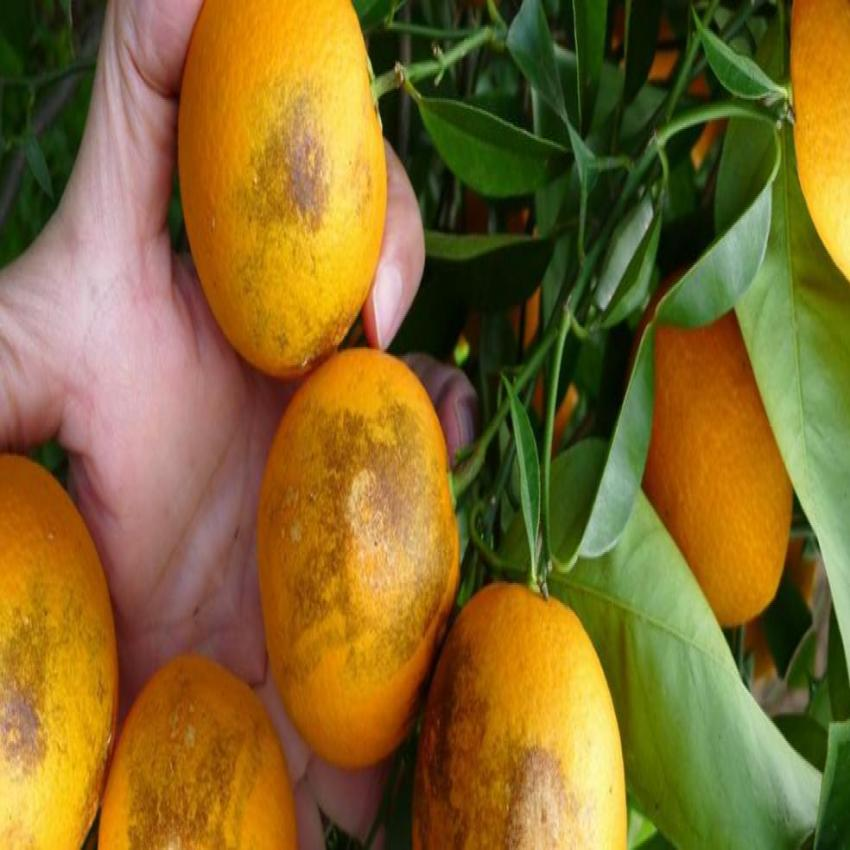Mal estado: (159, 0, 394, 390), (258, 348, 466, 776), (408, 582, 633, 844), (0, 438, 111, 832), (95, 655, 305, 840)
